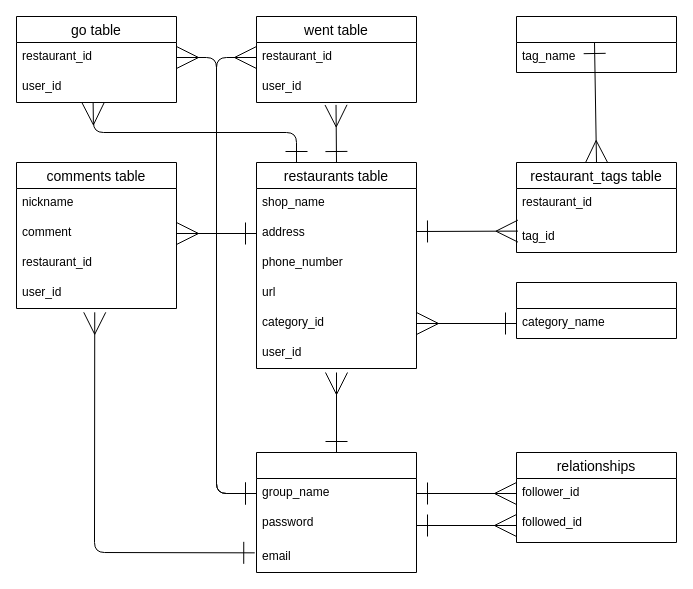
Some shapes in this 693 by 589 pixel diagram are drawn without their labels. Here are the shapes that lost their labels. From the top down, the box of each, then its label:
(516, 16, 676, 72): tags table
(516, 282, 676, 338): categories table
(256, 452, 416, 572): users table
